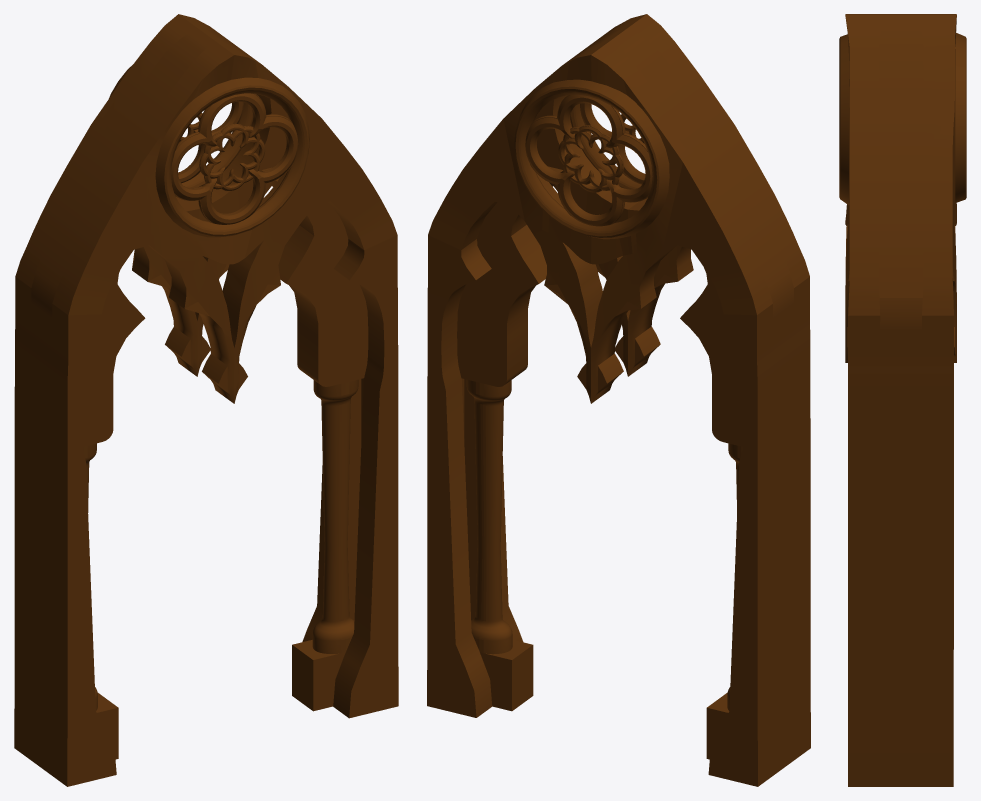
The model's file is abattoir, Archway (4).fbx.
3 renders of one model, left to right at view 1: azimuth 30°, elevation 25°; view 2: azimuth 150°, elevation 25°; view 3: azimuth 270°, elevation 25°, orthographic.
Parts seen in each view (by area): view 1: Cylinder.003; view 2: Cylinder.003; view 3: Cylinder.003.
Boxes of the visible parts, bbox=[...] form: Cylinder.003: bbox=[14, 14, 398, 786]; Cylinder.003: bbox=[427, 14, 810, 786]; Cylinder.003: bbox=[839, 14, 966, 786].
Size of the model in its own units: 300 by 600 by 100.
